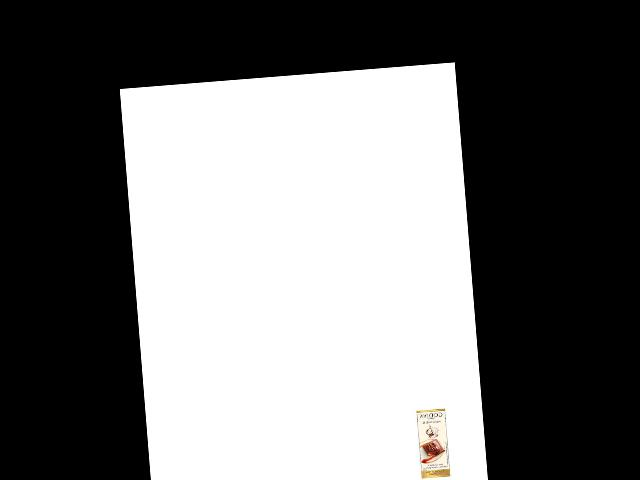chocolate: (413, 407, 450, 480)
